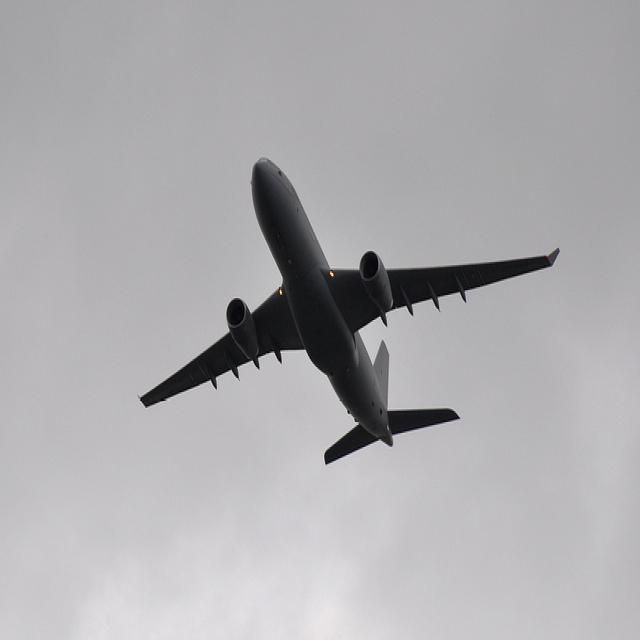airplane: (135, 154, 561, 467)
